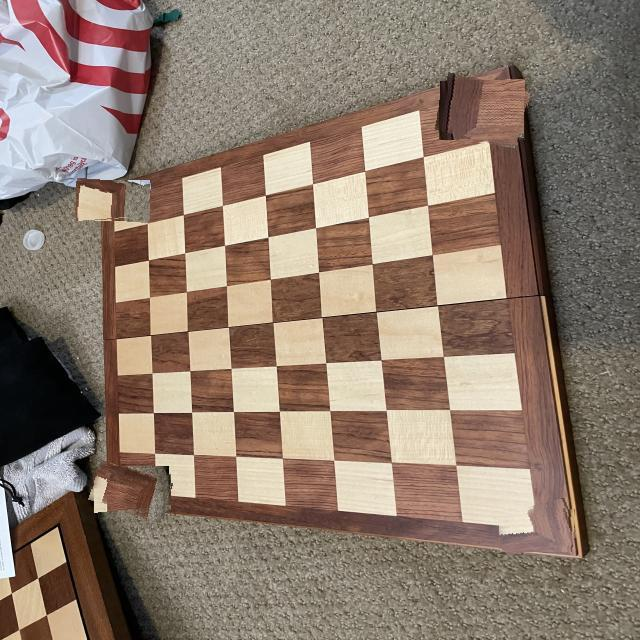chess-table-corners: (437, 77, 528, 144), (91, 466, 171, 518), (500, 502, 576, 552), (76, 180, 150, 222)
